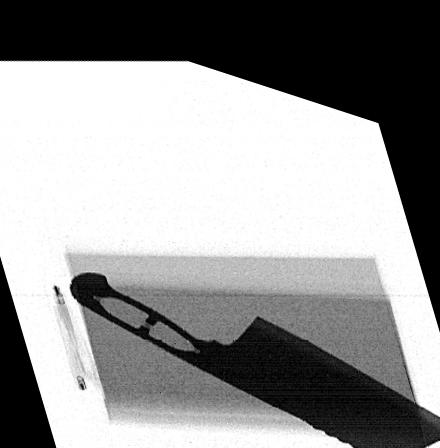Knife: (67, 264, 440, 438)
